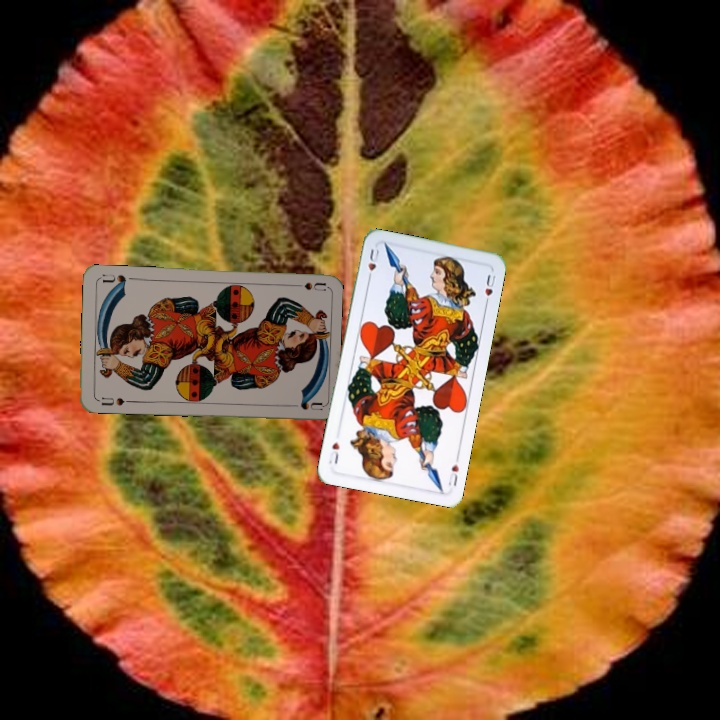HU: (363, 245, 382, 284), (444, 460, 461, 489)
SU: (93, 393, 134, 408), (286, 278, 327, 293)
